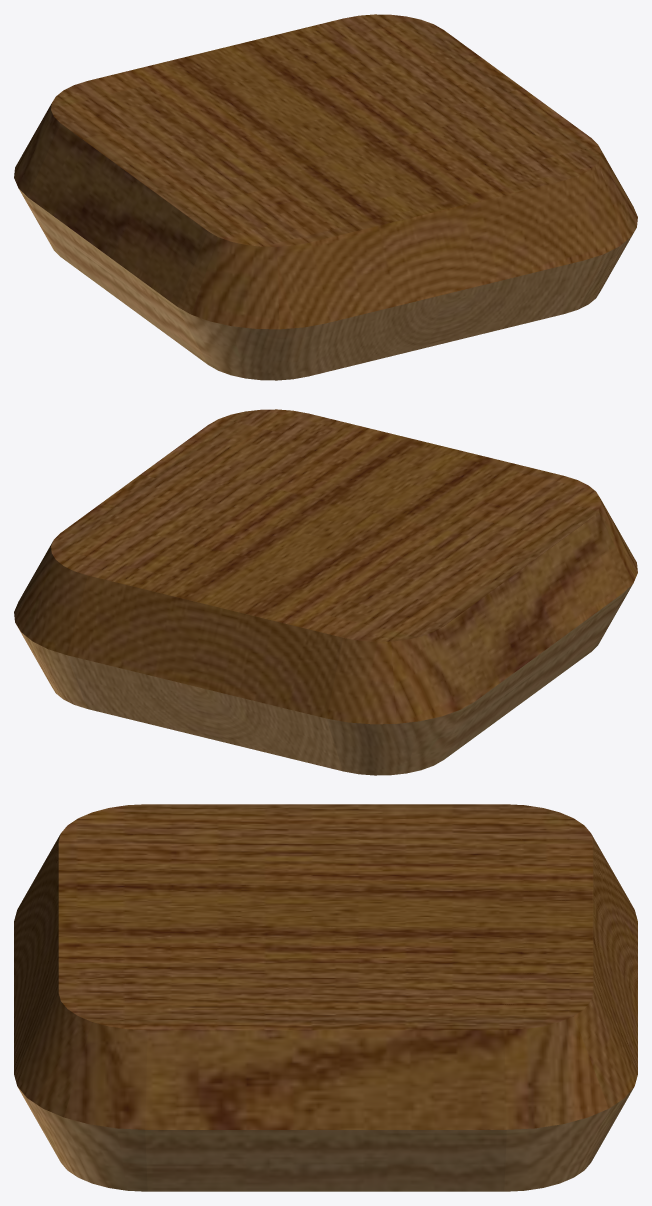
The model's file is BURGER TEST ANIMATION.glb.
The picture shows the model from 3 angles, top to bottom: view 1: azimuth 30°, elevation 25°; view 2: azimuth 150°, elevation 25°; view 3: azimuth 270°, elevation 25°; orthographic projection. The views are drawn at different scales.
Visible parts, largest first — view 1: Rectangle1001, Rectangle0001; view 2: Rectangle1001, Rectangle0001; view 3: Rectangle1001, Rectangle0001.
Part boxes in pixels (x1,y1,x2,y2): Rectangle1001: (14, 14, 637, 329); Rectangle0001: (19, 189, 634, 380); Rectangle1001: (14, 409, 637, 724); Rectangle0001: (17, 584, 632, 775); Rectangle1001: (14, 804, 637, 1129); Rectangle0001: (18, 1087, 633, 1191).
Bounding box in the file's own units: 0.07 × 0.02 × 0.07.
2 materials, 2 textured.
